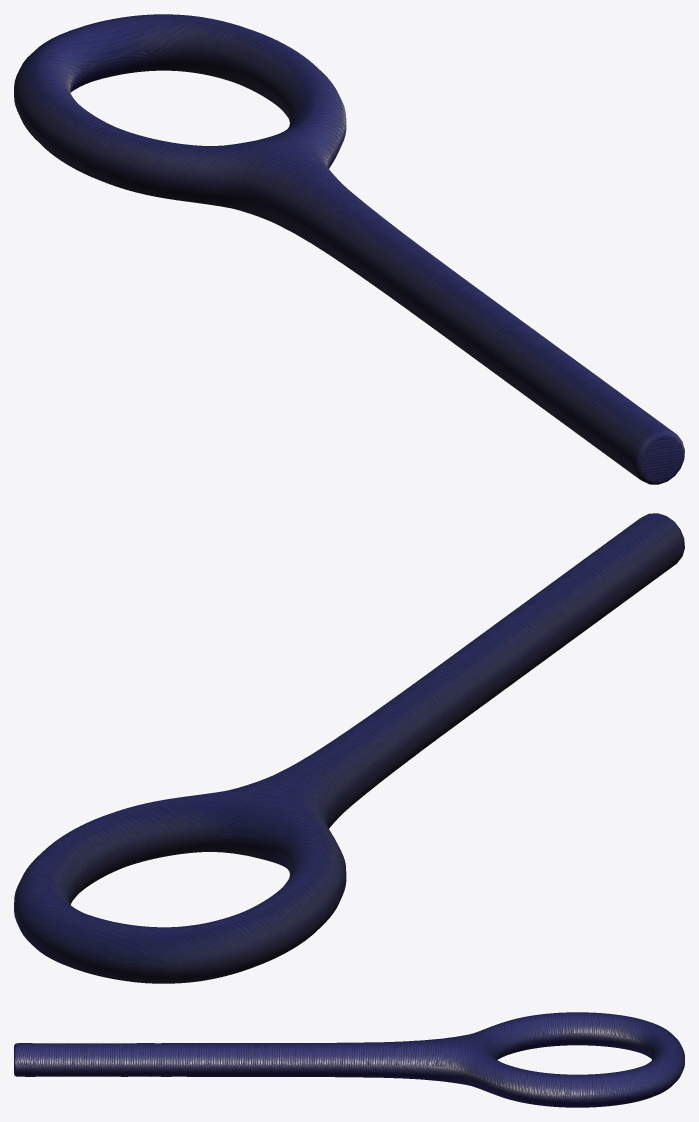
File: 21_Oring.glb
3 views of the same model, one above another, from view 1: azimuth 30°, elevation 25°; view 2: azimuth 150°, elevation 25°; view 3: azimuth 270°, elevation 25° (orthographic). The views are drawn at different scales.
Parts seen in each view (by area): view 1: 21_Oring; view 2: 21_Oring; view 3: 21_Oring.
Part boxes in pixels (x1,y1,x2,y2): 21_Oring: (14, 14, 684, 484); 21_Oring: (14, 513, 684, 983); 21_Oring: (14, 1012, 684, 1107).
Bounding box in the file's own units: 0.0536 × 0.0124 × 0.1993.
1 material, 1 textured.
